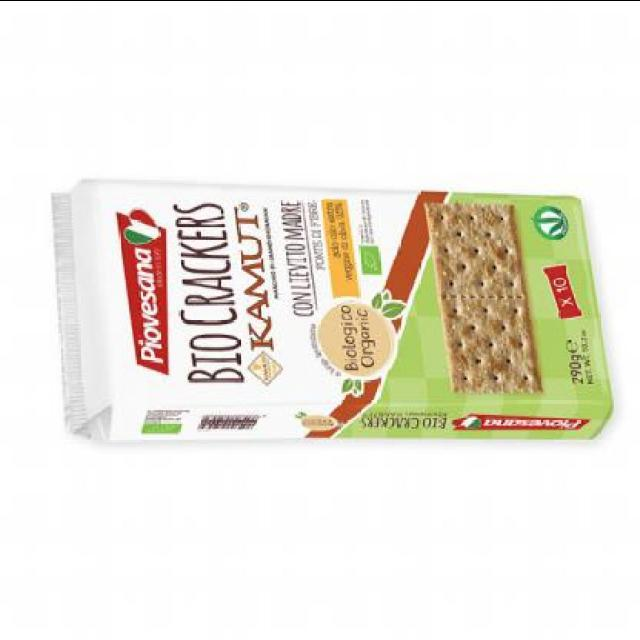Cracker: (49, 184, 616, 442)
